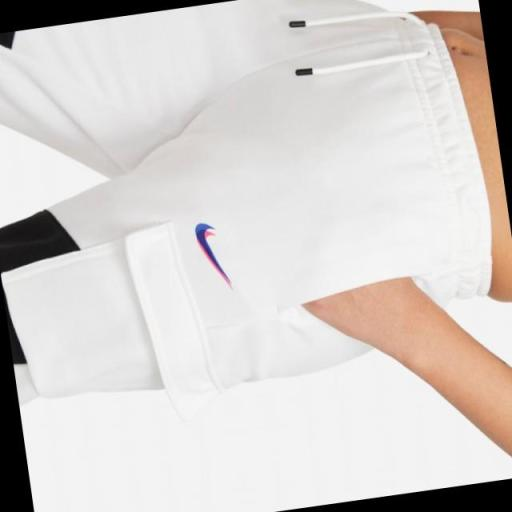Nike: (192, 210, 236, 302)
